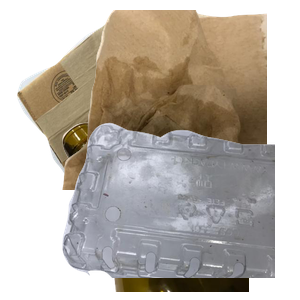cardboard: (14, 10, 222, 190)
glass: (60, 120, 300, 300)
plastic: (60, 120, 300, 300)
trash: (60, 10, 300, 190)
